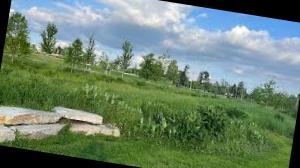overgrown grass: (0, 78, 274, 154)
